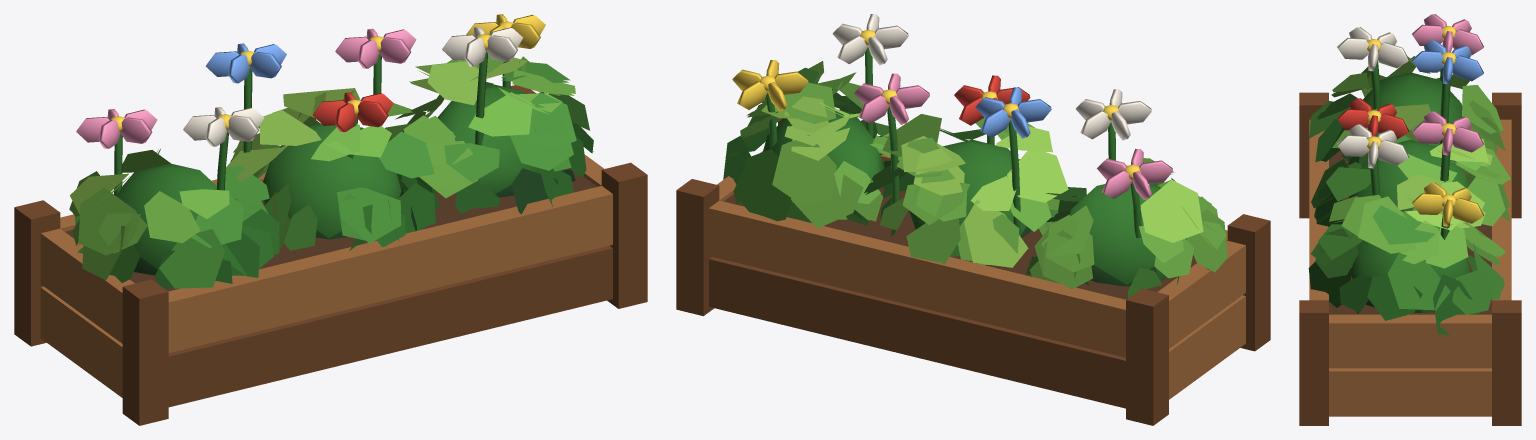
Rendered from PlanterBox.glb.
3 renders of one model, left to right at view 1: azimuth 30°, elevation 25°; view 2: azimuth 150°, elevation 25°; view 3: azimuth 270°, elevation 25°, orthographic. The views are drawn at different scales.
Visible parts, largest first — view 1: Body; view 2: Body; view 3: Body.
Boxes of the visible parts, x1,y1,x2,y2 form: Body: (14,14,647,425); Body: (676,14,1270,425); Body: (1299,14,1521,425).
Bounding box in the file's own units: 3.15 × 1.6 × 1.34.
1 material, 1 textured.
